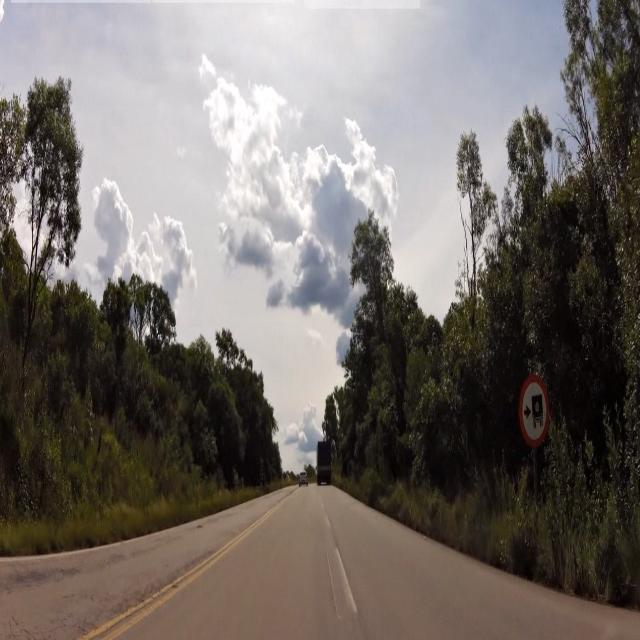R-7: (520, 378, 550, 444)
